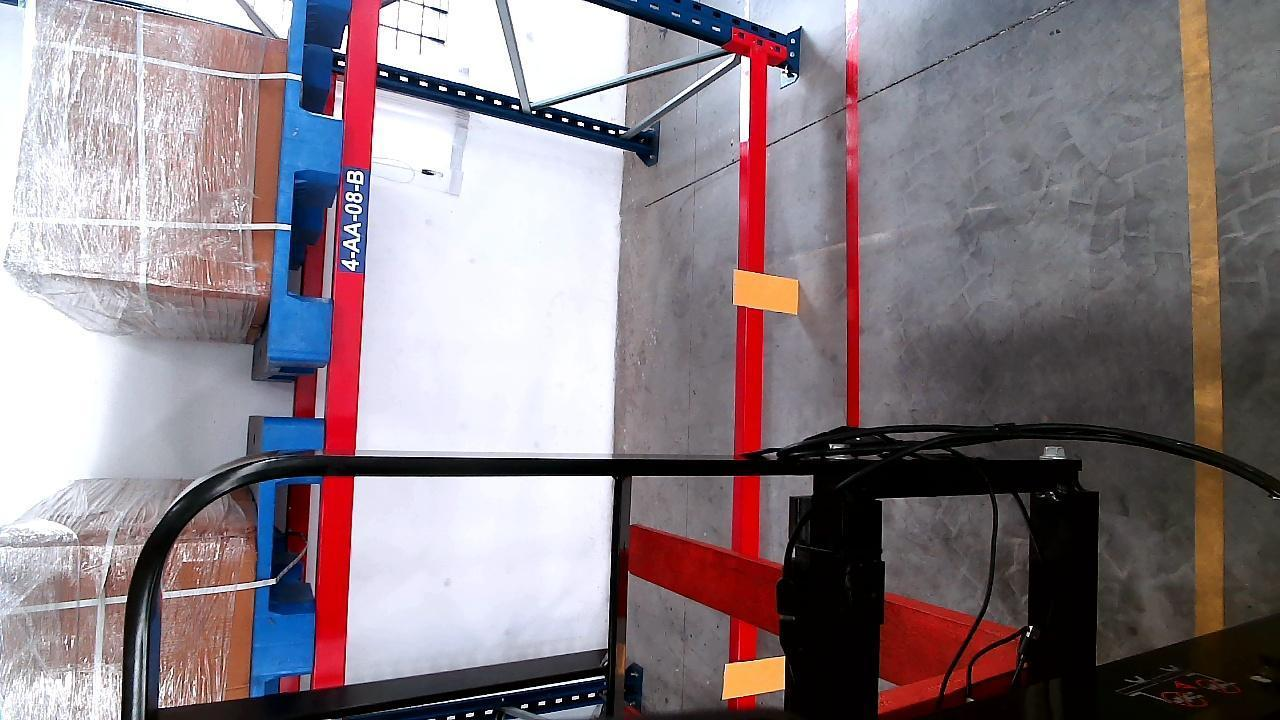h_rack: (314, 0, 377, 688), (730, 41, 772, 710)
orange_strip: (723, 654, 786, 698), (736, 270, 801, 311)
red_line: (841, 13, 864, 424)
small_pallet: (269, 2, 352, 360), (254, 424, 325, 689)
yellow_line: (1176, 0, 1226, 640)
